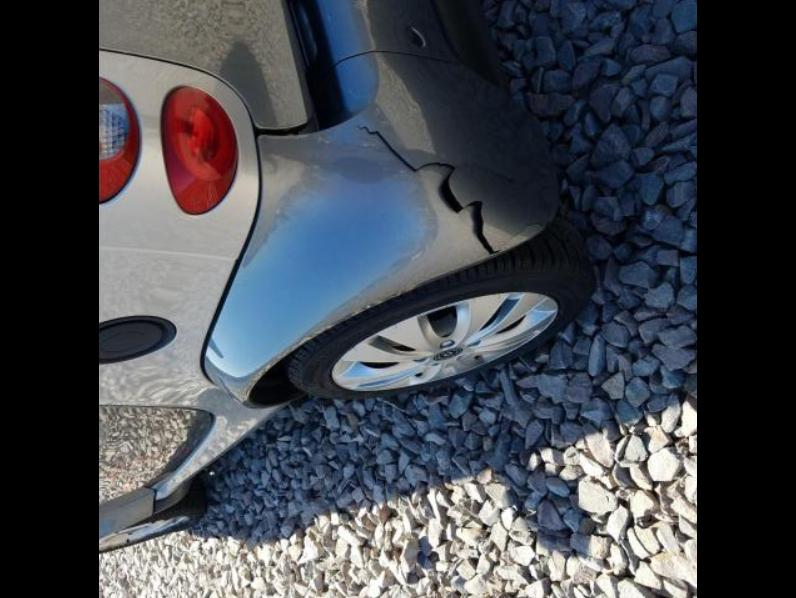Broken part: (204, 0, 557, 410)
